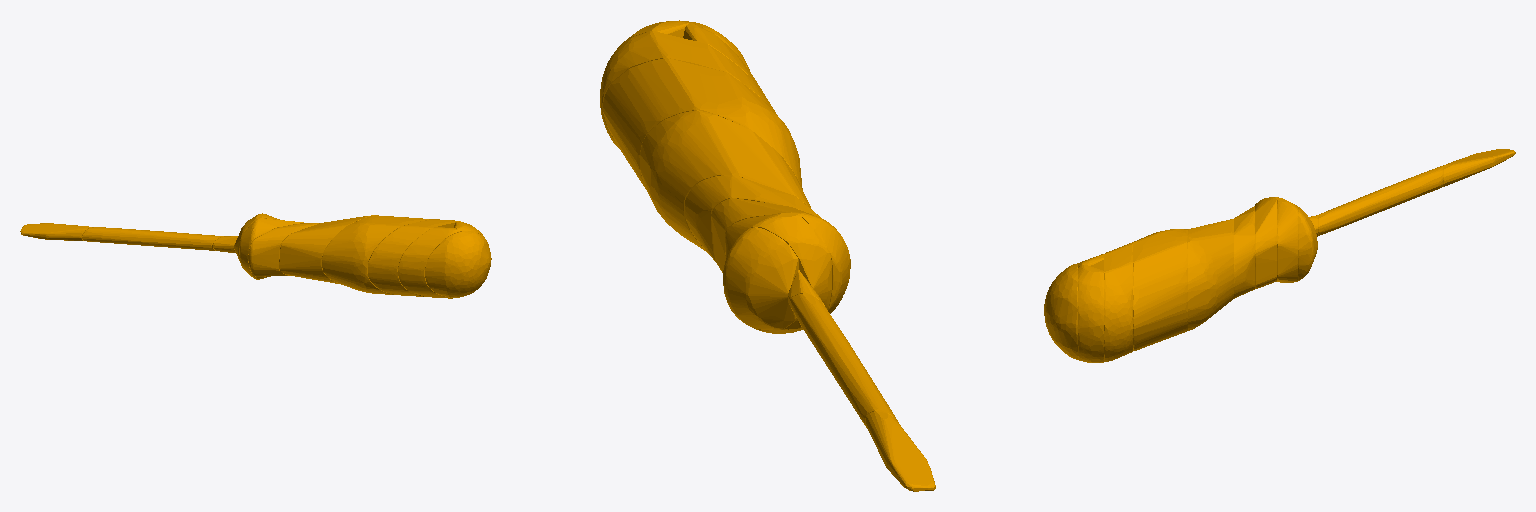
robot.urdf — 044_flat_screwdriver:
<?xml version="1.0" encoding="UTF-8"?>
<robot name="044_flat_screwdriver">
	<link name="base">
		<collision>
			<geometry>
				<mesh filename="..\vhacd\044_flat_screwdriver_vhacd.obj" scale="1.0 1.0 1.0"/>
			</geometry>
			<origin xyz="0 0 0"/>
			<contact_coefficients mu="0.24" />
		</collision>
		<visual>
			<geometry>
				<mesh filename="..\vhacd\044_flat_screwdriver_vhacd.obj" scale="1.0 1.0 1.0"/>
			</geometry>
			<origin xyz="0 0 0"/>
		</visual>
		<inertial>
			<mass value="0.0984"/>
			<inertia ixx="7.077716222518674e-05" ixy="6.185559374299765e-05" ixz="-3.4193857986303007e-06" iyy="7.535744245485797e-05" iyz="3.3082297869447685e-06" izz="0.00013480575673416472" />
			<origin xyz="0.02322835134821299 -0.02270556061739027 0.01617982169382291"/>
		</inertial>
	</link>
</robot>

--- Render facts (derived) ---
The picture shows the robot from 3 angles, left to right: view 1: azimuth 30°, elevation 25°; view 2: azimuth 150°, elevation 25°; view 3: azimuth 270°, elevation 25°; orthographic projection.
Robot: 044_flat_screwdriver — 1 links, 0 joints (none); root link base; default pose: every joint at zero.
Links seen in each view (by area): view 1: base; view 2: base; view 3: base.
Link boxes in pixels (x1,y1,x2,y2): base: [20, 213, 491, 298]; base: [600, 20, 935, 491]; base: [1044, 149, 1515, 362].
Size in the robot's own frame: 0.1621 by 0.1572 by 0.0353 metres.
Meshes: 1 distinct files referenced, 1 mesh visuals loaded (1 OBJ).